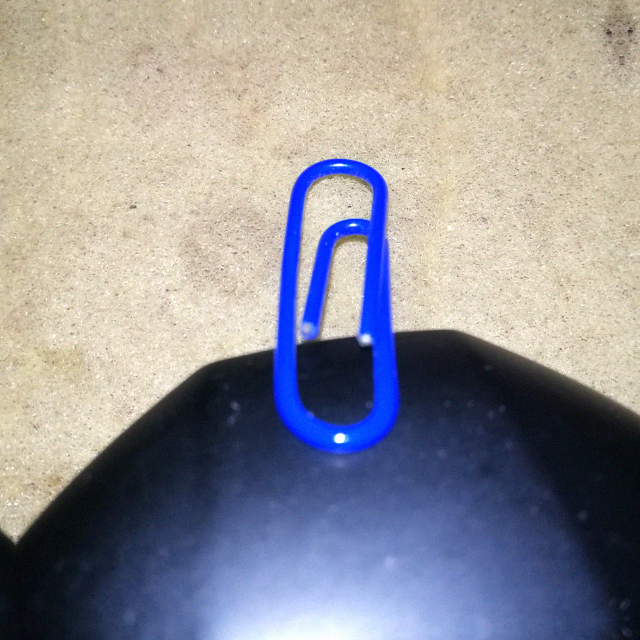pin: (261, 148, 405, 452)
